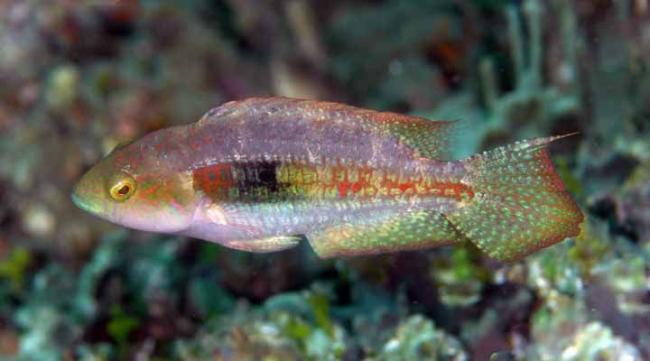fish: (70, 97, 585, 264)
